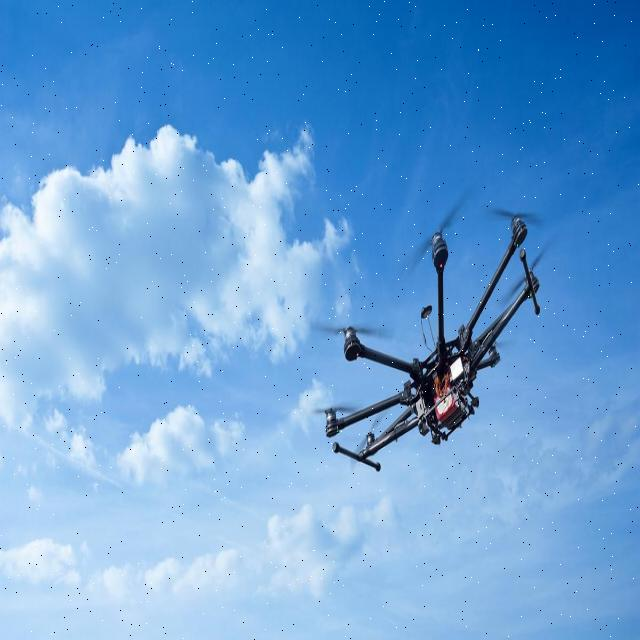UAV: (324, 216, 542, 472)
